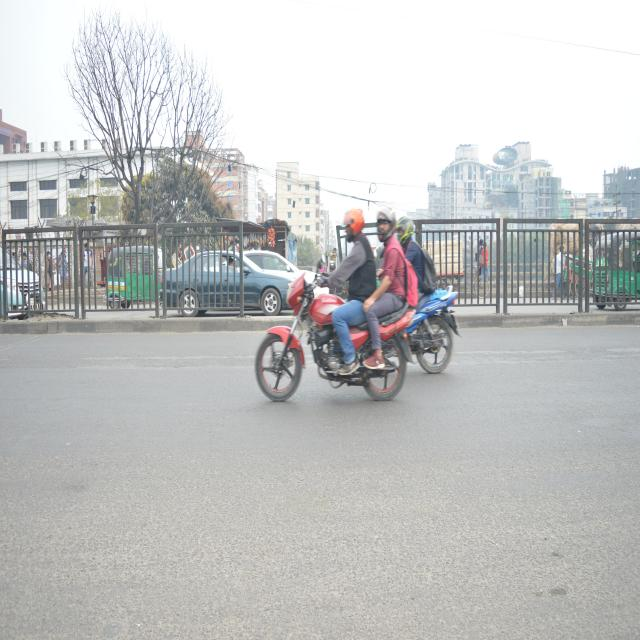car: (154, 248, 297, 315), (240, 235, 330, 299)
motorbike: (259, 279, 419, 416), (397, 283, 464, 381)
